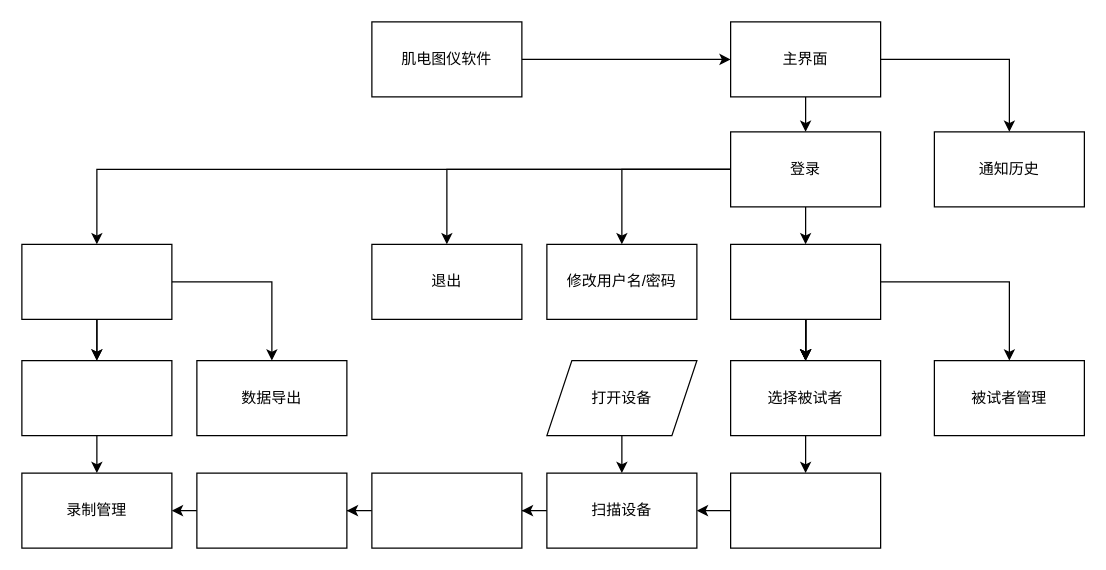
This 1106x570 diagram has some shape labels left out. Each missing label, with the centre of its shape:
"开始采集" belongs at pixel 271 510.
"数据列表管理" belongs at pixel 96 397.
"数据管理" belongs at pixel 96 281.
"系统设置" belongs at pixel 805 510.
"被试者" belongs at pixel 805 281.
"链接设备" belongs at pixel 446 510.
